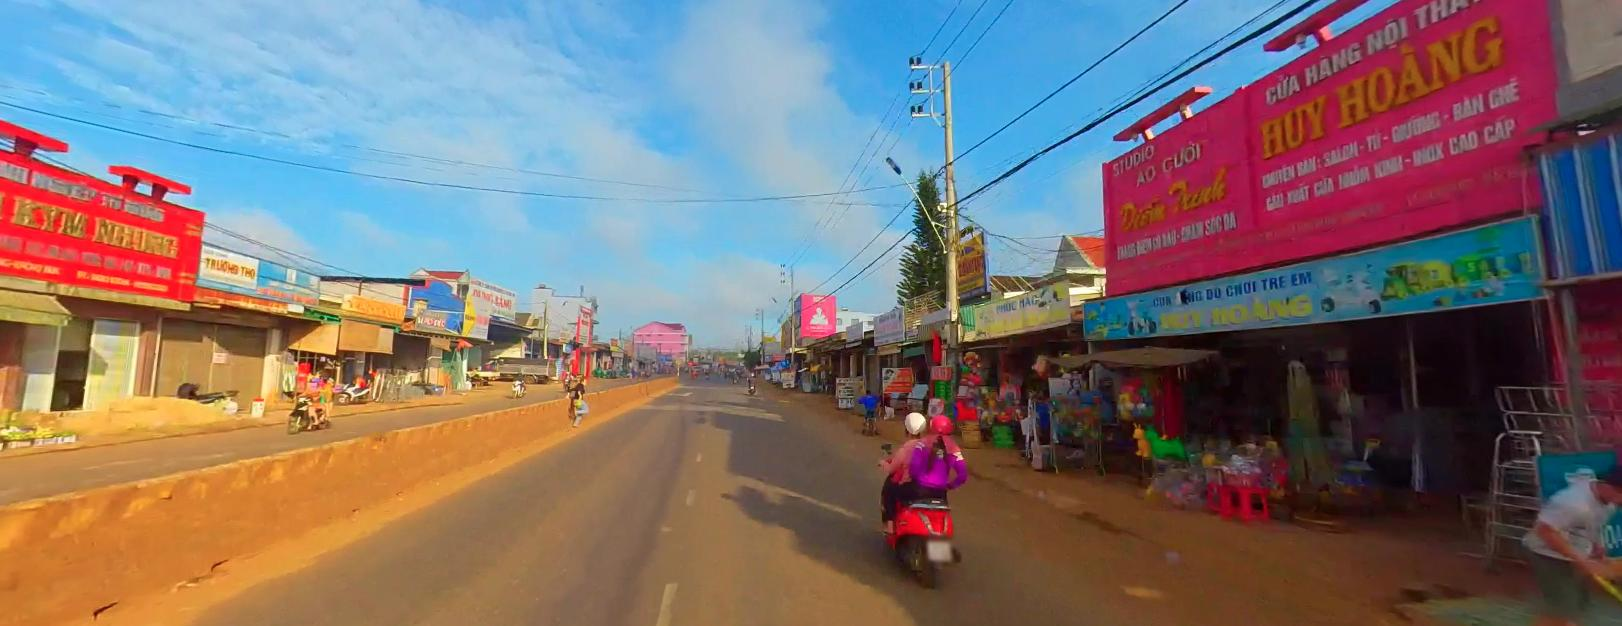Cam nguoc chieu: (687, 360, 692, 365)
